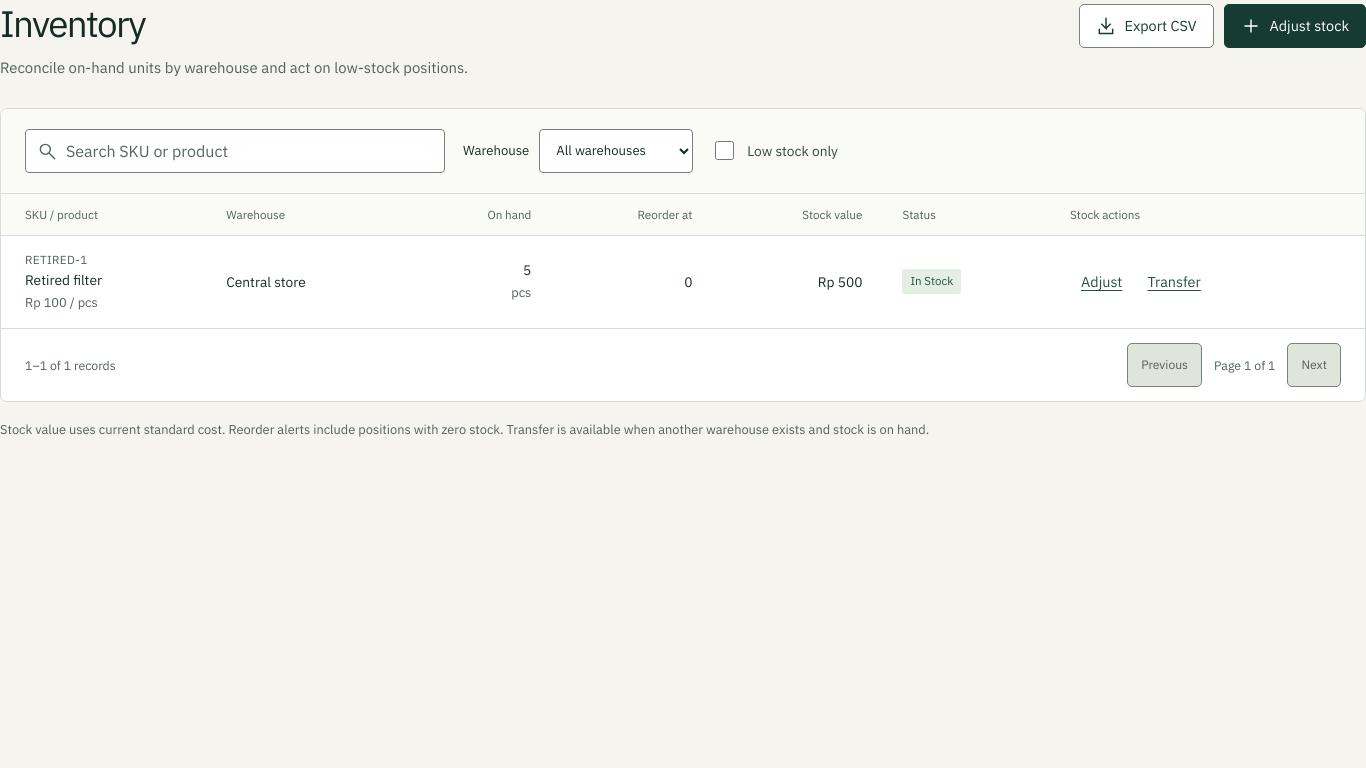
Test: archived product stock operations › keeps an archived stock row selected and allows its remaining units to be issued
The width and height of the screenshot is (1366, 768).
Step 1. Click the button with aria-label "Adjust Retired filter at Central store" → [1102, 282], box 1070,260 -> 1133,304
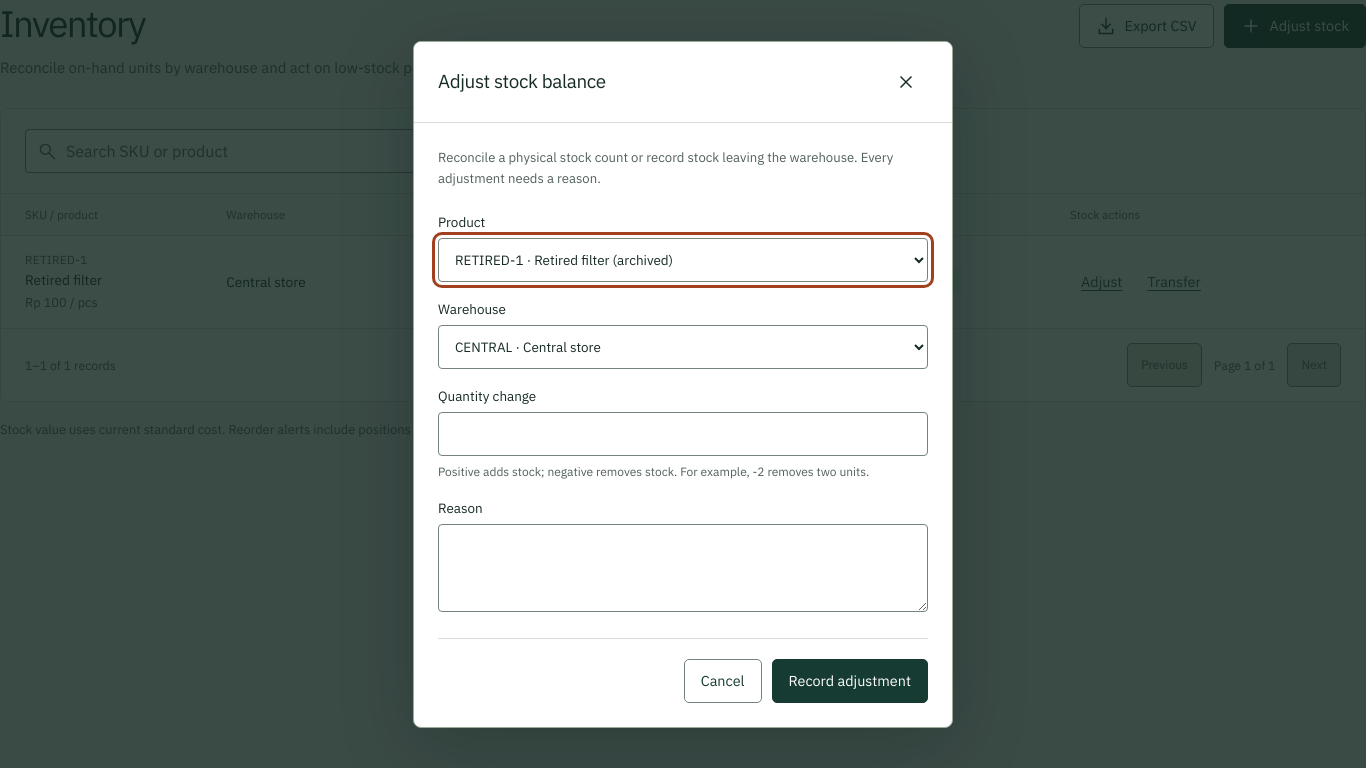
Check: the dropdown labelled "Product" shows "RETIRED-1 · Retired filter (archived)", box 438,238 -> 928,282
Step 2. Type "-2" into the number field labelled "Quantity change" → [683, 434], box 438,412 -> 928,456
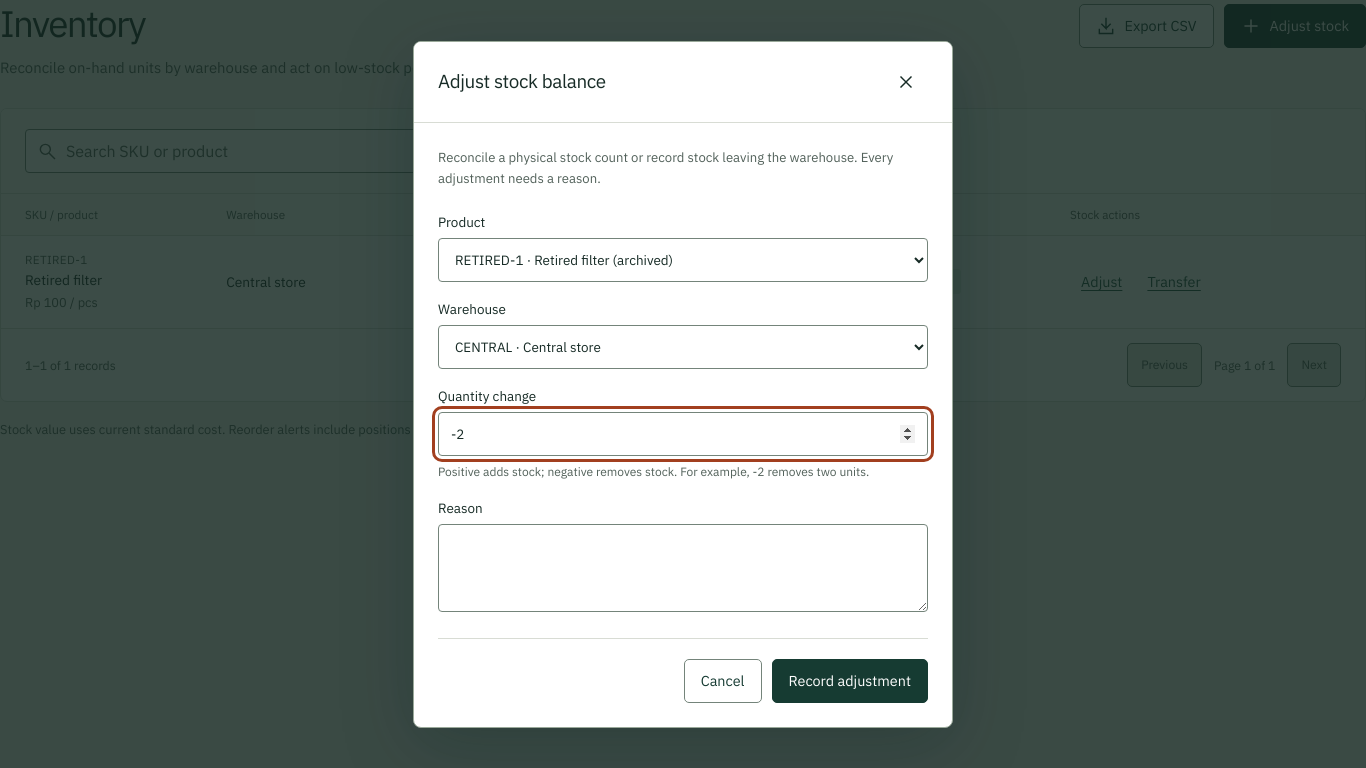
Step 3. Type "Issued remaining retired units" into the text box labelled "Reason" → [683, 568], box 438,524 -> 928,612
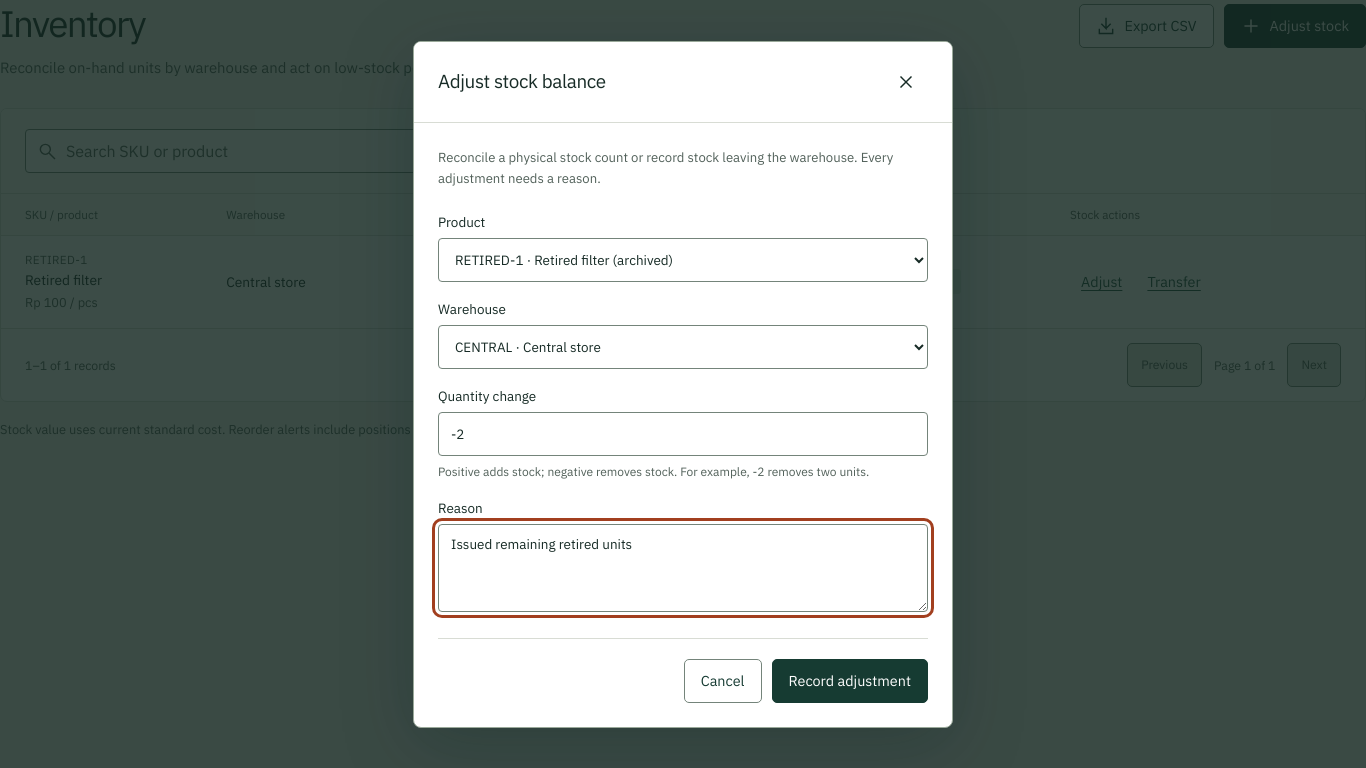
Step 4. Click the button "Record adjustment" → [850, 680], box 772,658 -> 928,702
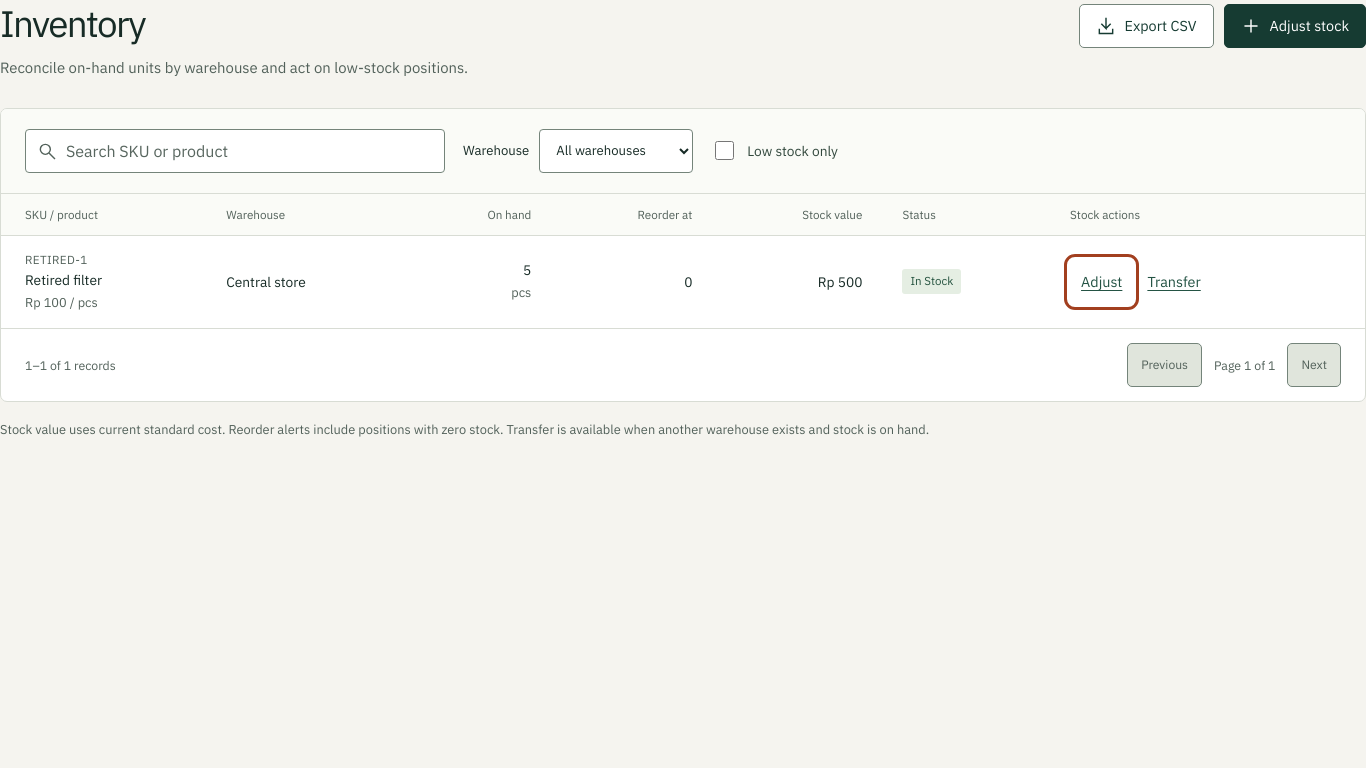
Check: the dialog is gone
